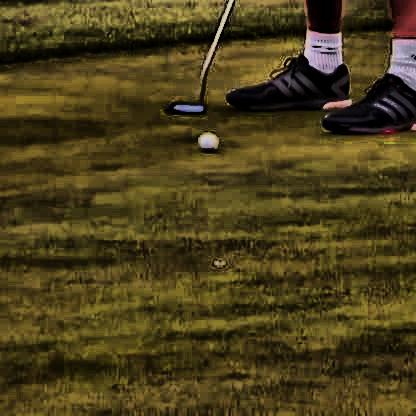golfball: (197, 127, 216, 149)
